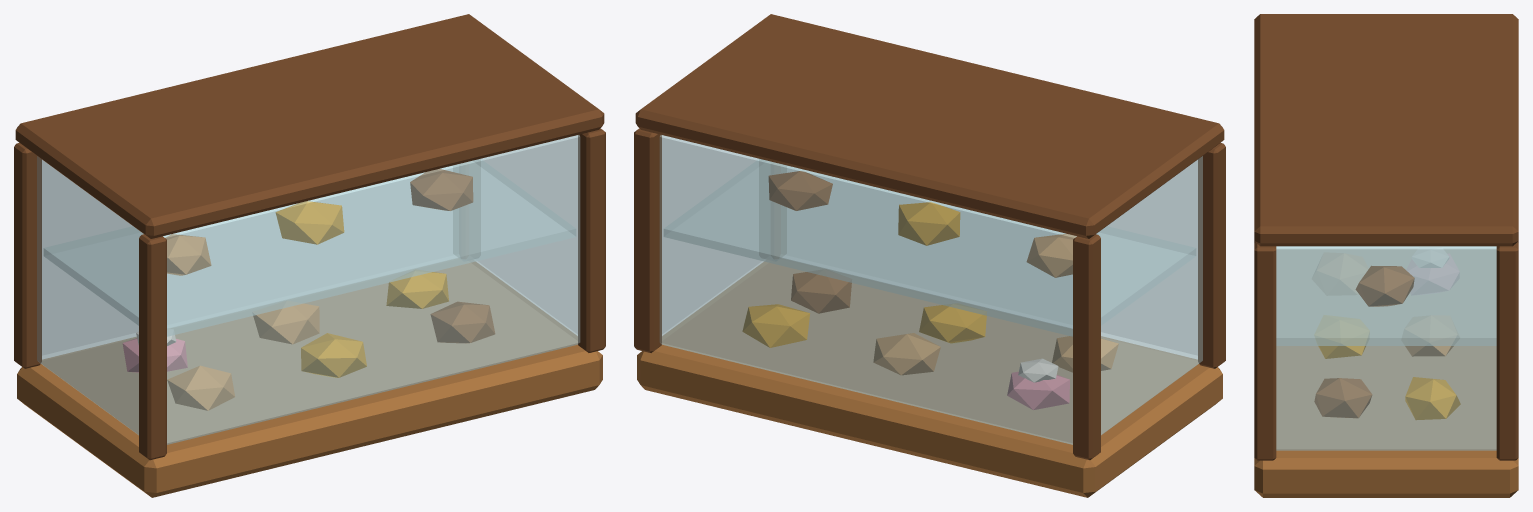
File: pastry_case.glb
3 views of the same model, side by side, from view 1: azimuth 30°, elevation 25°; view 2: azimuth 150°, elevation 25°; view 3: azimuth 270°, elevation 25° (orthographic). The views are drawn at different scales.
Parts seen in each view (by area): view 1: pastry_case; view 2: pastry_case; view 3: pastry_case.
Boxes of the visible parts, <box> form: pastry_case: <box>14,14,605,497</box>; pastry_case: <box>634,14,1225,497</box>; pastry_case: <box>1254,14,1518,497</box>.
Bounding box in the file's own units: 0.7 × 0.41 × 0.36.
